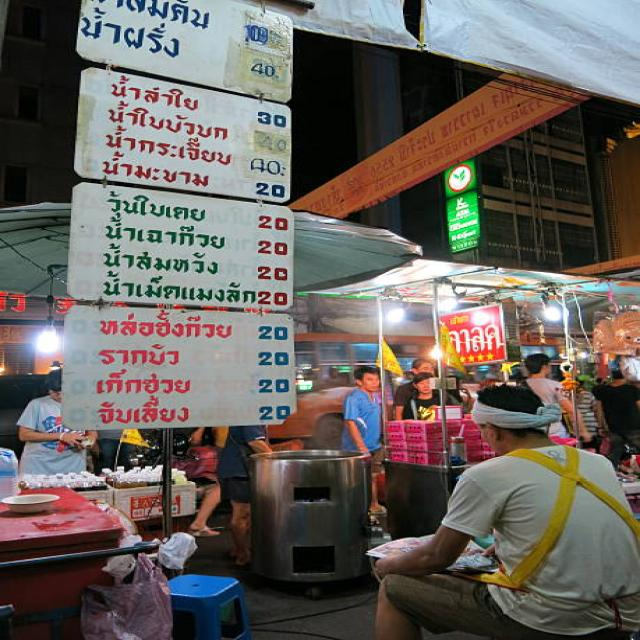Emperan: (359, 266, 567, 576)
